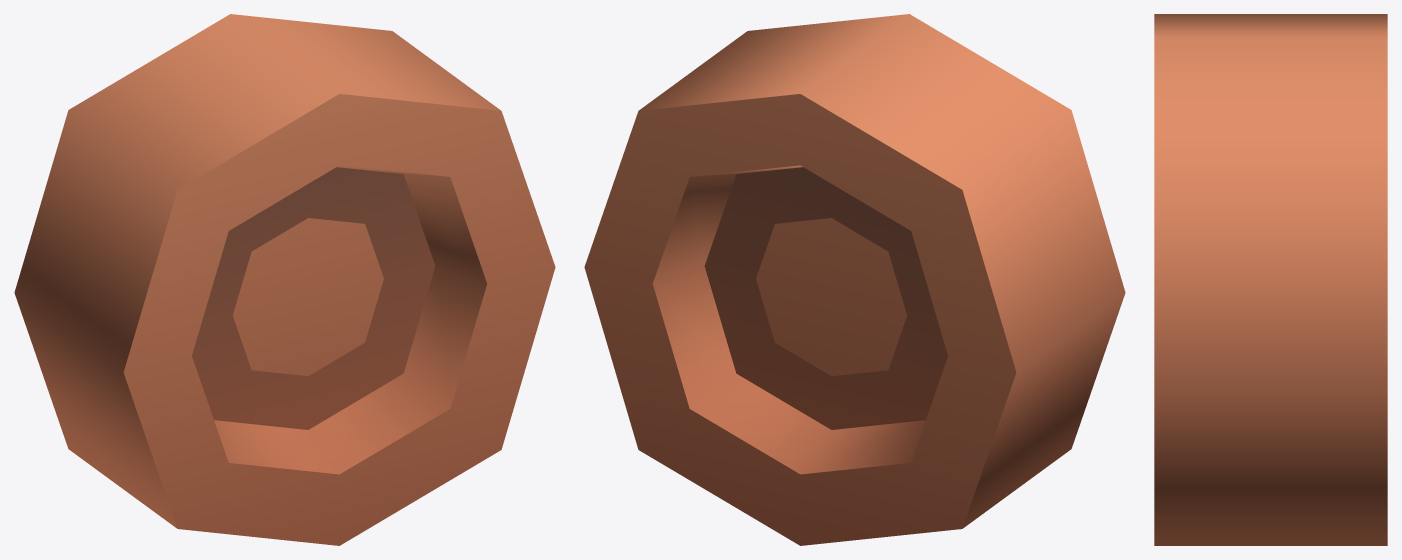
The model's file is coin_bronze.glb.
The picture shows the model from 3 angles, left to right: view 1: azimuth 30°, elevation 25°; view 2: azimuth 150°, elevation 25°; view 3: azimuth 270°, elevation 25°; orthographic projection. The views are drawn at different scales.
Visible parts, largest first — view 1: coin-bronze; view 2: coin-bronze; view 3: coin-bronze.
Boxes of the visible parts, x1,y1,x2,y2 form: coin-bronze: (14, 14, 555, 545); coin-bronze: (584, 14, 1125, 545); coin-bronze: (1154, 14, 1387, 545).
Bounding box in the file's own units: 0.4 × 0.4 × 0.175.
1 material, 1 textured.
